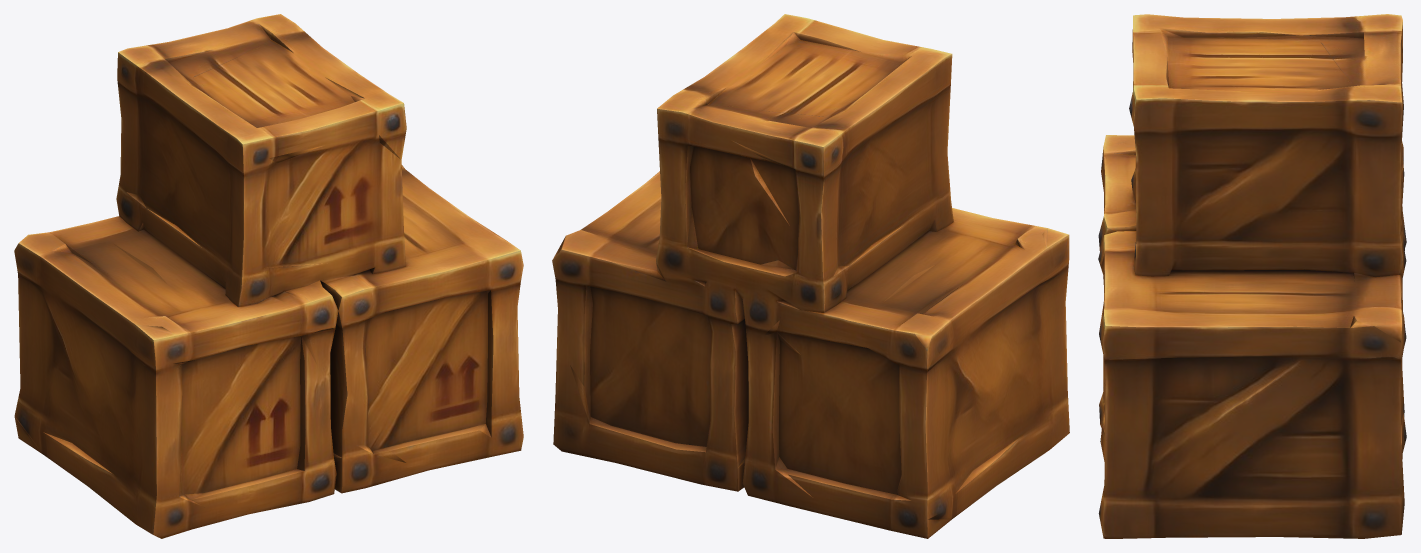
File: 05-shipping-crates.glb
The picture shows the model from 3 angles, left to right: view 1: azimuth 30°, elevation 25°; view 2: azimuth 150°, elevation 25°; view 3: azimuth 270°, elevation 25°; orthographic projection. The views are drawn at different scales.
Visible parts, largest first — view 1: SM_ShippingCrates; view 2: SM_ShippingCrates; view 3: SM_ShippingCrates.
Boxes of the visible parts, x1,y1,x2,y2 form: SM_ShippingCrates: (14, 14, 523, 538); SM_ShippingCrates: (552, 14, 1069, 538); SM_ShippingCrates: (1098, 14, 1406, 538).
Size of the model in its own units: 1.82 by 1.7 by 1.22.
1 material, 1 textured.
